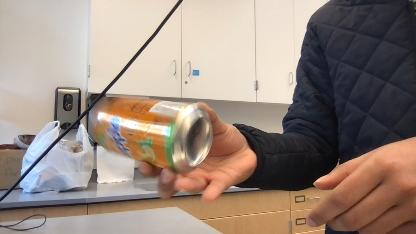Can: (87, 93, 216, 175)
